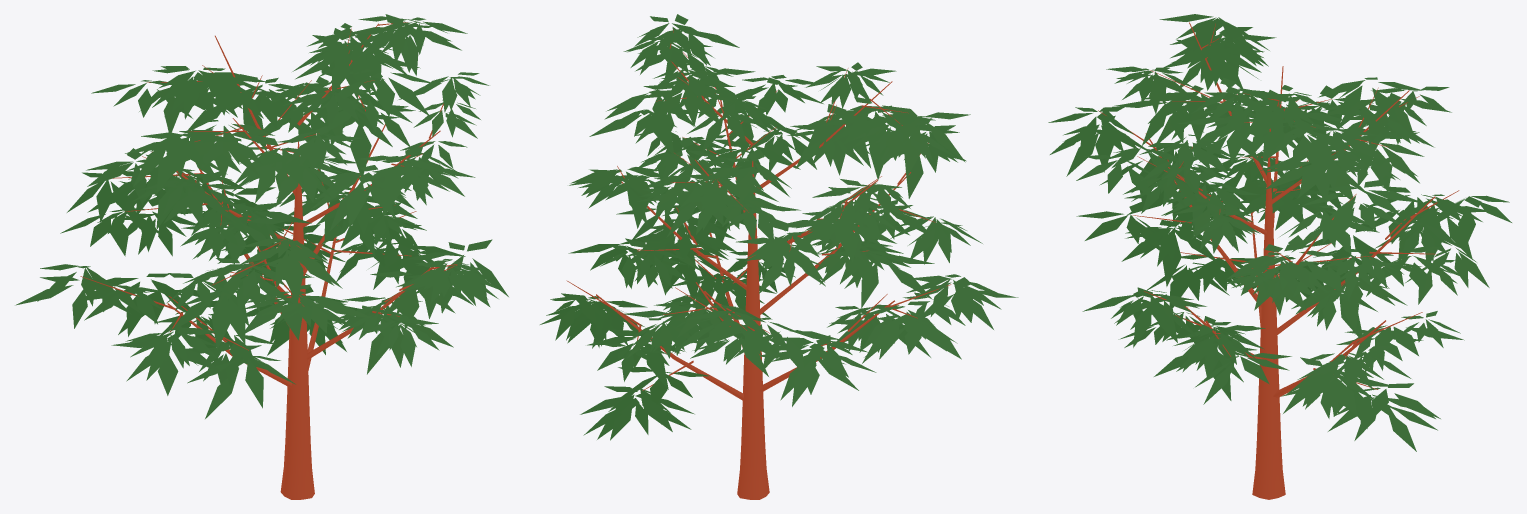
Rendered from Blender_Madrone_2.glb.
3 renders of one model, left to right at view 1: azimuth 30°, elevation 25°; view 2: azimuth 150°, elevation 25°; view 3: azimuth 270°, elevation 25°, orthographic. The views are drawn at different scales.
Visible parts, largest first — view 1: Blender_Madrone_2; view 2: Blender_Madrone_2; view 3: Blender_Madrone_2.
Boxes of the visible parts, box(x1,y1,x2,y2) form: Blender_Madrone_2: box(15, 14, 508, 499); Blender_Madrone_2: box(540, 14, 1018, 499); Blender_Madrone_2: box(1048, 14, 1511, 499).
Bounding box in the file's own units: 13.64 × 13.39 × 12.63.
